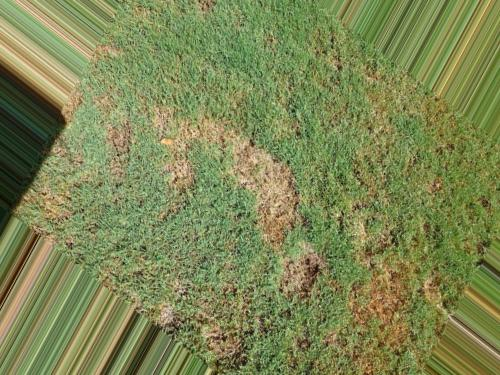patch: (198, 119, 300, 241), (157, 111, 190, 220), (358, 271, 403, 326), (37, 187, 73, 228), (291, 256, 319, 298), (105, 127, 129, 174)
